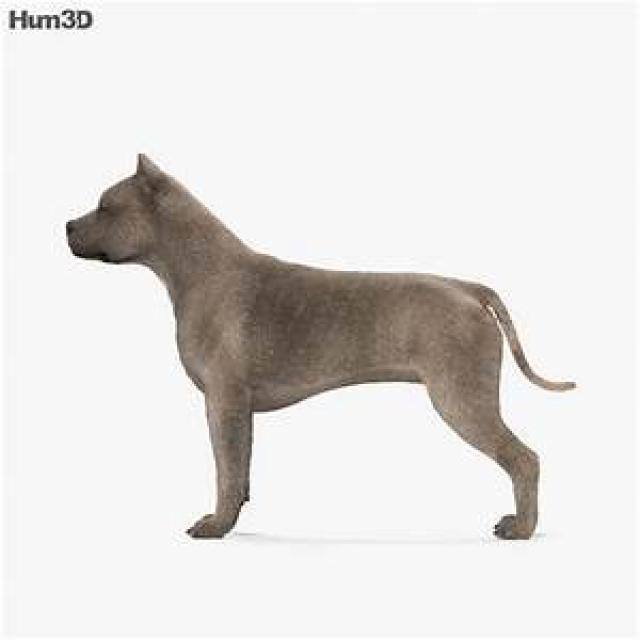KOPEK: (70, 154, 589, 549)
